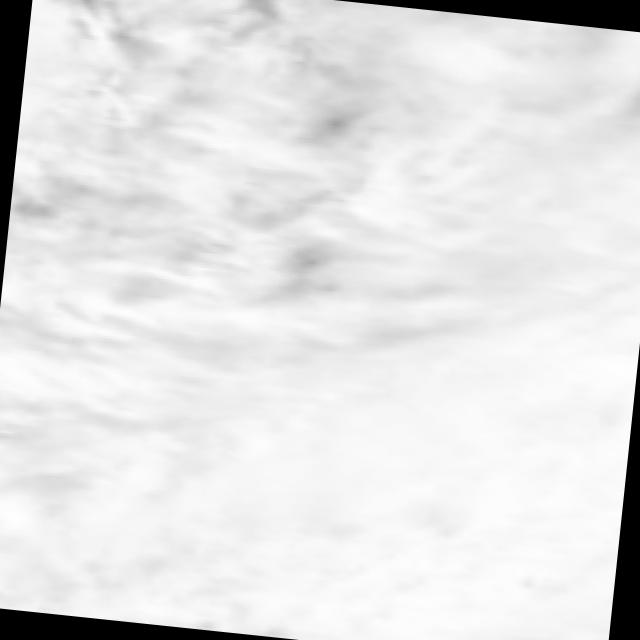CB: (182, 230, 434, 484), (217, 0, 460, 262), (0, 198, 217, 472), (403, 254, 640, 504), (426, 12, 640, 284), (10, 0, 249, 231), (160, 438, 416, 640), (0, 416, 197, 627), (382, 472, 623, 640)
